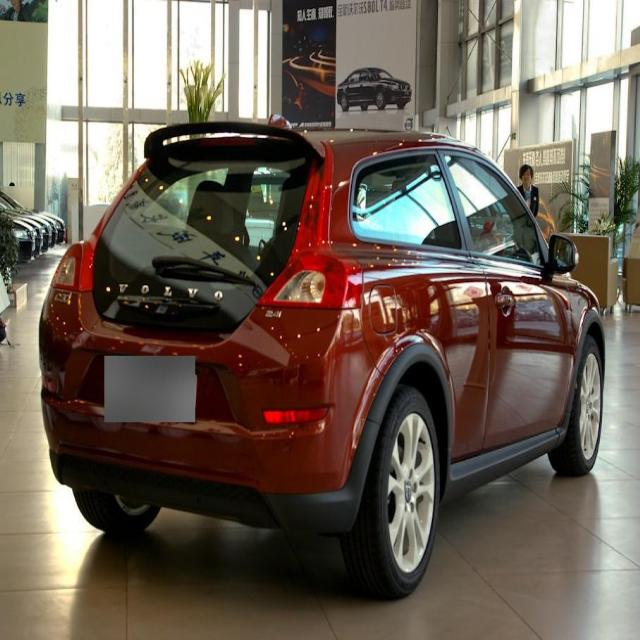back_glass: (90, 132, 308, 347)
back_left_side_light: (50, 228, 99, 295)
back_right_side_light: (256, 136, 366, 316)
front_right_side_door: (441, 139, 575, 463)
front_right_side_mirror: (544, 228, 581, 280)
rear_bumper: (39, 286, 381, 534)
wheel: (354, 388, 440, 592), (556, 334, 606, 472)
